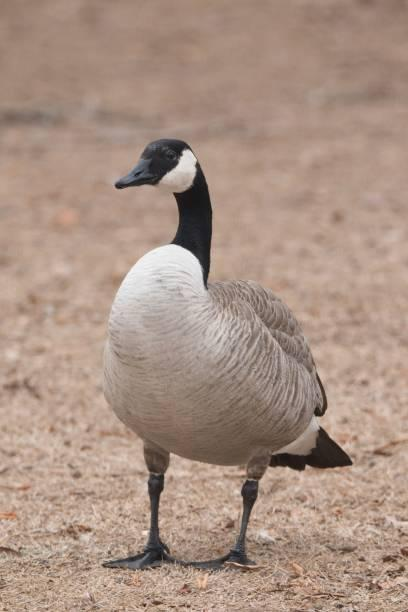Canadian-Goose: (98, 131, 350, 570)
